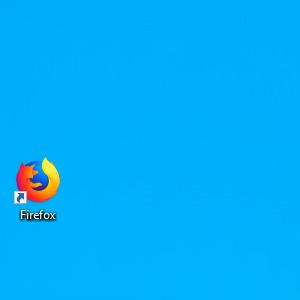firefox: (14, 156, 60, 205)
